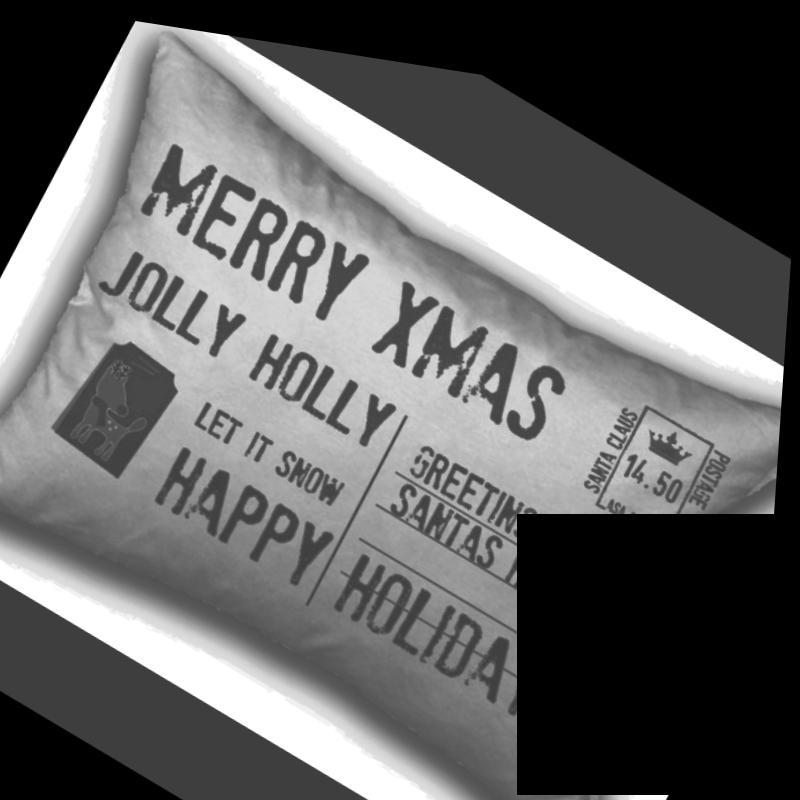pillow: (0, 27, 799, 800)
